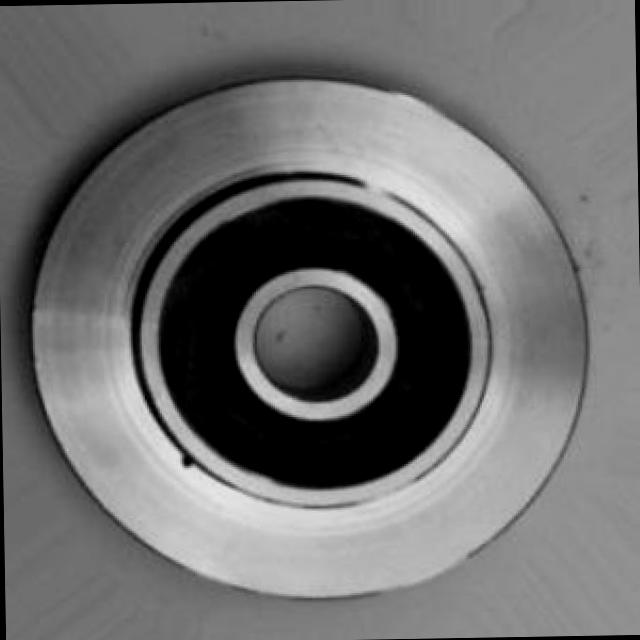Defect: (170, 448, 195, 480)
